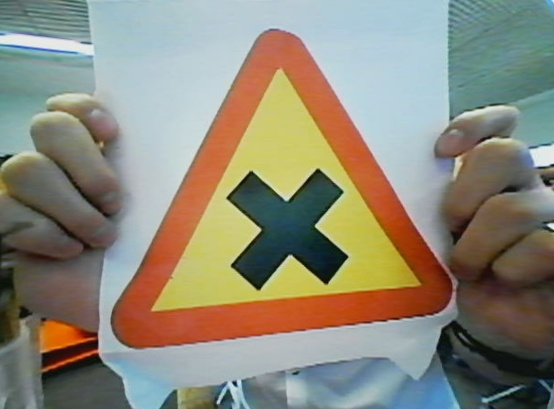junction: (82, 12, 460, 359)
